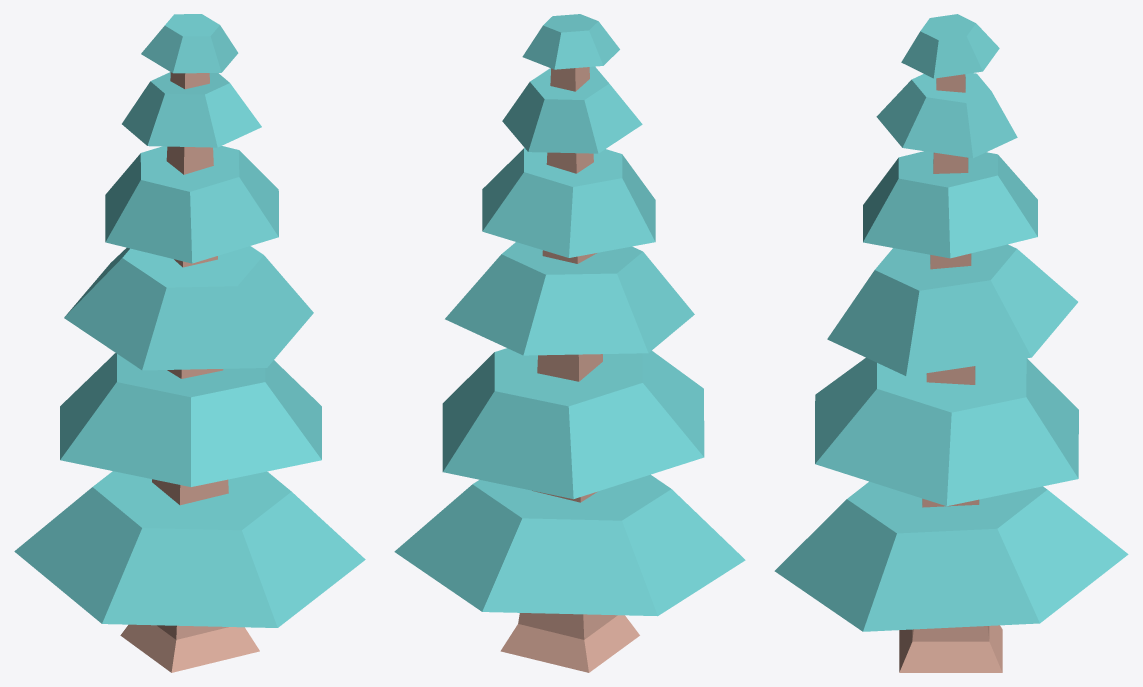
3 views of the same model, side by side, from view 1: azimuth 30°, elevation 25°; view 2: azimuth 150°, elevation 25°; view 3: azimuth 270°, elevation 25° (orthographic).
Parts seen in each view (by area): view 1: tree_pineRoundB; view 2: tree_pineRoundB; view 3: tree_pineRoundB.
Boxes of the visible parts, left/top/right/bottom form: tree_pineRoundB: left=14, top=14, right=365, bottom=672; tree_pineRoundB: left=394, top=14, right=745, bottom=672; tree_pineRoundB: left=774, top=14, right=1128, bottom=672.
Size of the model in its own units: 0.5322 by 1.2 by 0.6132.
